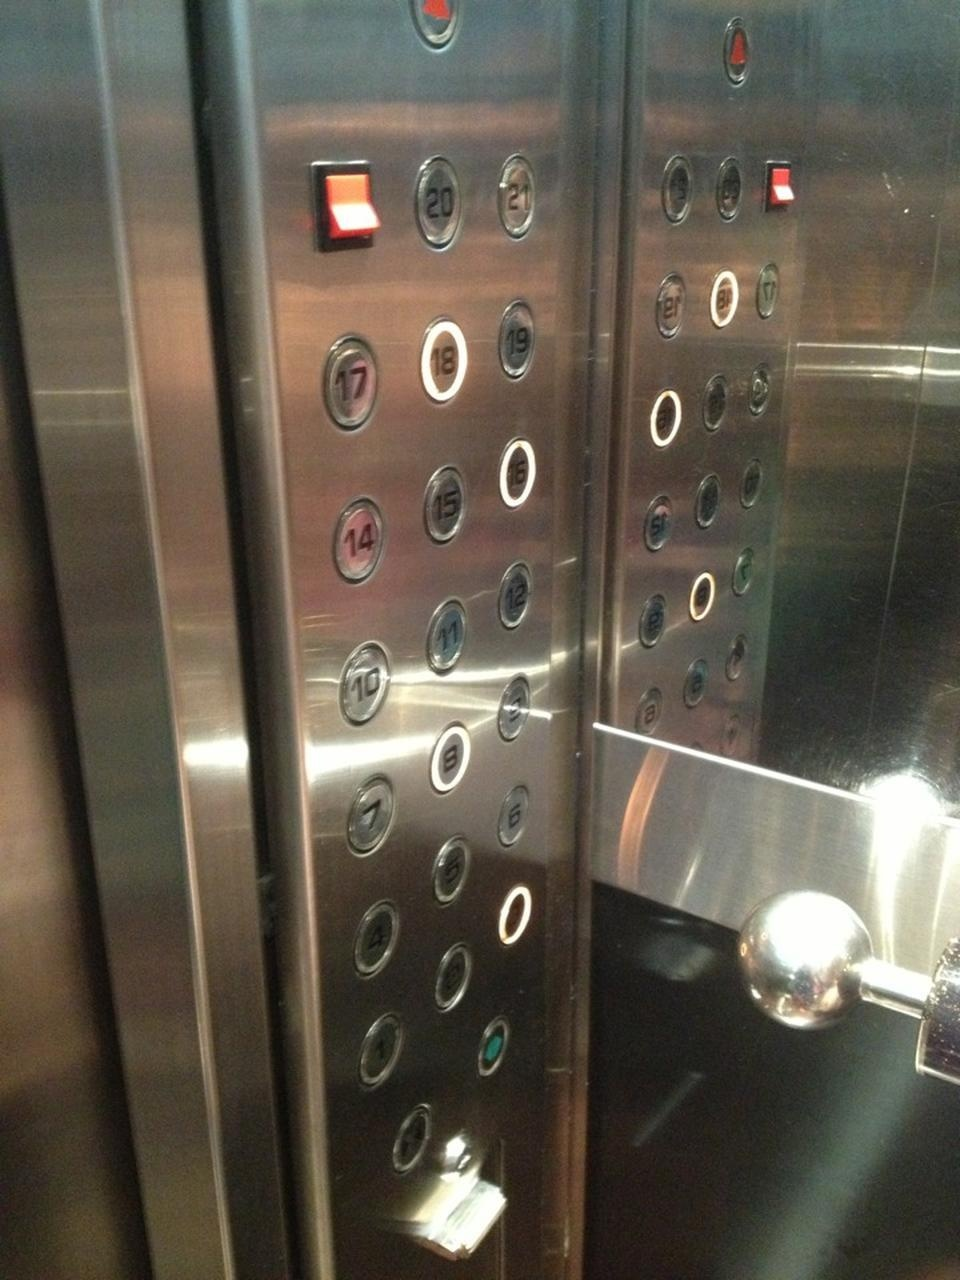1: (357, 1009, 411, 1092)
10: (334, 637, 398, 728)
11: (422, 594, 473, 680)
12: (492, 556, 535, 634)
14: (326, 492, 390, 583)
15: (418, 459, 469, 545)
16: (492, 428, 543, 516)
17: (315, 329, 382, 437)
18: (417, 312, 473, 412)
19: (492, 300, 543, 388)
20: (409, 155, 465, 255)
21: (491, 149, 542, 237)
4: (350, 893, 401, 984)
5: (427, 834, 477, 911)
6: (492, 778, 535, 856)
7: (342, 770, 399, 865)
8: (425, 716, 476, 802)
9: (491, 669, 534, 747)
alarm: (715, 14, 758, 95)
blur: (430, 938, 480, 1015), (387, 1103, 435, 1174), (494, 882, 533, 948)
open: (473, 1013, 514, 1084)
switch: (304, 157, 382, 257), (759, 152, 807, 219)
unknown: (706, 147, 753, 224), (652, 151, 699, 228), (648, 270, 695, 347), (695, 368, 734, 436), (706, 266, 745, 334), (742, 356, 782, 422), (690, 468, 730, 532), (734, 454, 774, 518), (721, 624, 761, 688), (750, 259, 789, 327), (646, 384, 685, 452), (683, 565, 723, 629), (728, 543, 768, 607), (639, 491, 679, 555), (635, 588, 675, 652), (676, 651, 715, 710), (630, 682, 669, 741)
